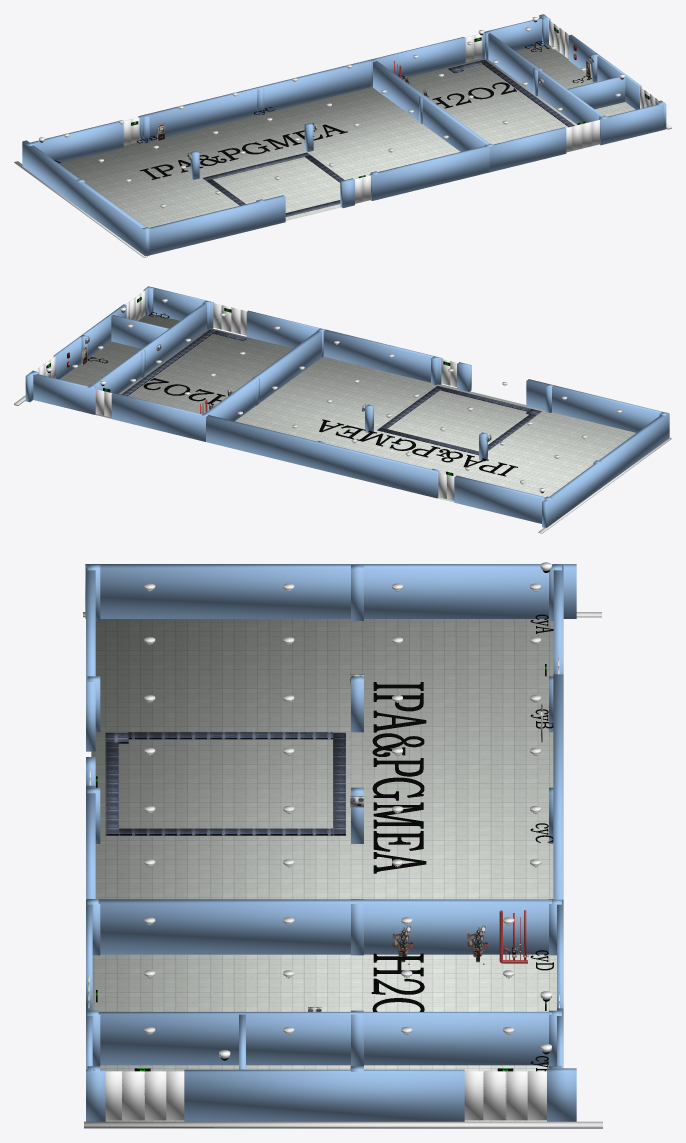
The model's file is cyv_1f_mini.gltf.
3 views of the same model, one above another, from view 1: azimuth 30°, elevation 25°; view 2: azimuth 150°, elevation 25°; view 3: azimuth 270°, elevation 25° (orthographic). The views are drawn at different scales.
Visible parts, largest first — view 1: cyv_dimian, cyv_qiang_15, cyv_qiang_9, cyv_qiang_31, cyv_qiang_10, cyv_qiang_32, cyv_qiang_33, cyv_qiang_14, cyv_qiang_11, cyv_qiang_16, cyv_qiang_12, cyv_qiang (+12 smaller); view 2: cyv_dimian, cyv_qiang_15, cyv_qiang_31, cyv_qiang_9, cyv_qiang_10, cyv_qiang_32, cyv_qiang_33, cyv_qiang_16, cyv_qiang_14, cyv_qiang_17, cyv_qiang_11, cyv_qiang (+12 smaller); view 3: cyv_dimian, cyv_qiang_31, cyv_qiang_32, cyv_qiang_33, cyv_qiang, IPA_PGMEA, cyv_waiguan_1, cyv_qiang_15, device_door_1005_x, device_door_1006_x, cyv_qiang_9, xiashuidao_1 (+12 smaller).
Boxes of the visible parts, box(x1,y1,x2,y2) form: cyv_dimian: box(58, 44, 635, 227); cyv_qiang_15: box(138, 60, 371, 143); cyv_qiang_9: box(148, 195, 285, 255); cyv_qiang_31: box(22, 140, 149, 256); cyv_qiang_10: box(369, 146, 489, 200); cyv_qiang_32: box(373, 61, 489, 151); cyv_qiang_33: box(488, 33, 603, 124); cyv_qiang_14: box(26, 121, 123, 163); cyv_qiang_11: box(488, 127, 566, 172); cyv_qiang_16: box(370, 37, 465, 78); cyv_qiang_12: box(599, 104, 663, 145); cyv_qiang: box(568, 34, 641, 109); cyv_dimian: box(59, 314, 635, 502); cyv_qiang_15: box(206, 415, 439, 498); cyv_qiang_31: box(542, 412, 669, 527); cyv_qiang_9: box(526, 379, 665, 432); cyv_qiang_10: box(323, 329, 442, 384); cyv_qiang_32: box(205, 330, 321, 421); cyv_qiang_33: box(91, 303, 206, 393); cyv_qiang_16: box(111, 392, 205, 441); cyv_qiang_14: box(454, 475, 551, 523); cyv_qiang_17: box(33, 374, 96, 414); cyv_qiang_11: box(246, 310, 325, 348); cyv_qiang: box(53, 304, 126, 379); cyv_dimian: box(91, 619, 556, 1121); cyv_qiang_31: box(85, 564, 576, 618); cyv_qiang_32: box(98, 899, 551, 954); cyv_qiang_33: box(98, 1012, 551, 1065); cyv_qiang: box(184, 1069, 464, 1121); IPA_PGMEA: box(372, 682, 426, 873); cyv_waiguan_1: box(84, 1121, 602, 1128); cyv_qiang_15: box(553, 674, 563, 899); device_door_1005_x: box(483, 1071, 527, 1120); device_door_1006_x: box(122, 1071, 166, 1120); cyv_qiang_9: box(86, 567, 95, 751); xiashuidao_1: box(118, 828, 332, 835).
Bounding box in the file's own units: 146 × 8.26 × 62.24.
Materials: 30 (21 with a texture image).
